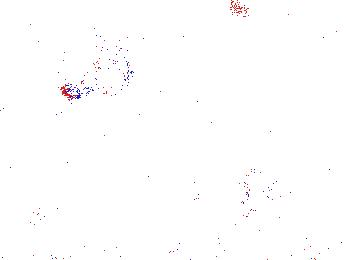flame jellyfish: (1, 169, 78, 223), (61, 53, 141, 102), (240, 161, 291, 209)
